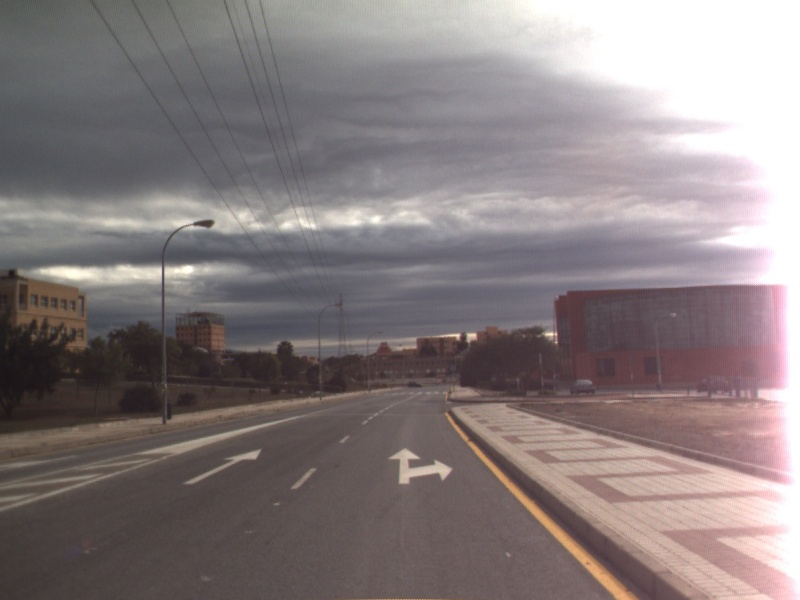STRAIGHT: (180, 447, 263, 487)
STRAIGHT_RIGHT: (386, 445, 455, 486)
